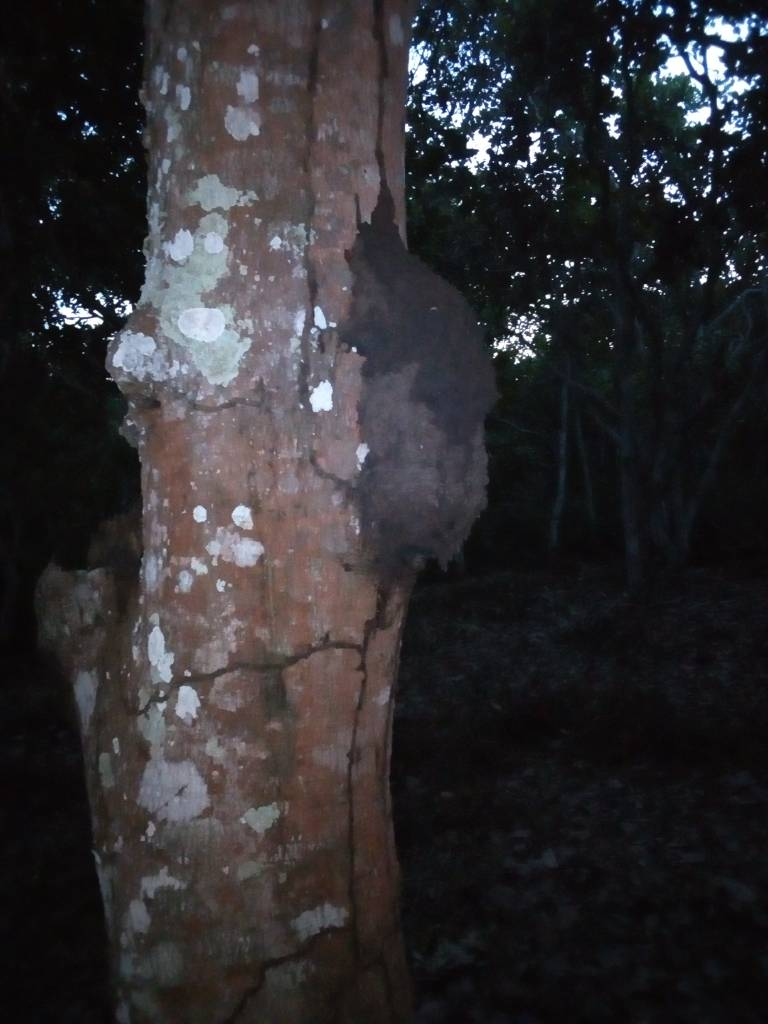Termites: (336, 263, 496, 558)
